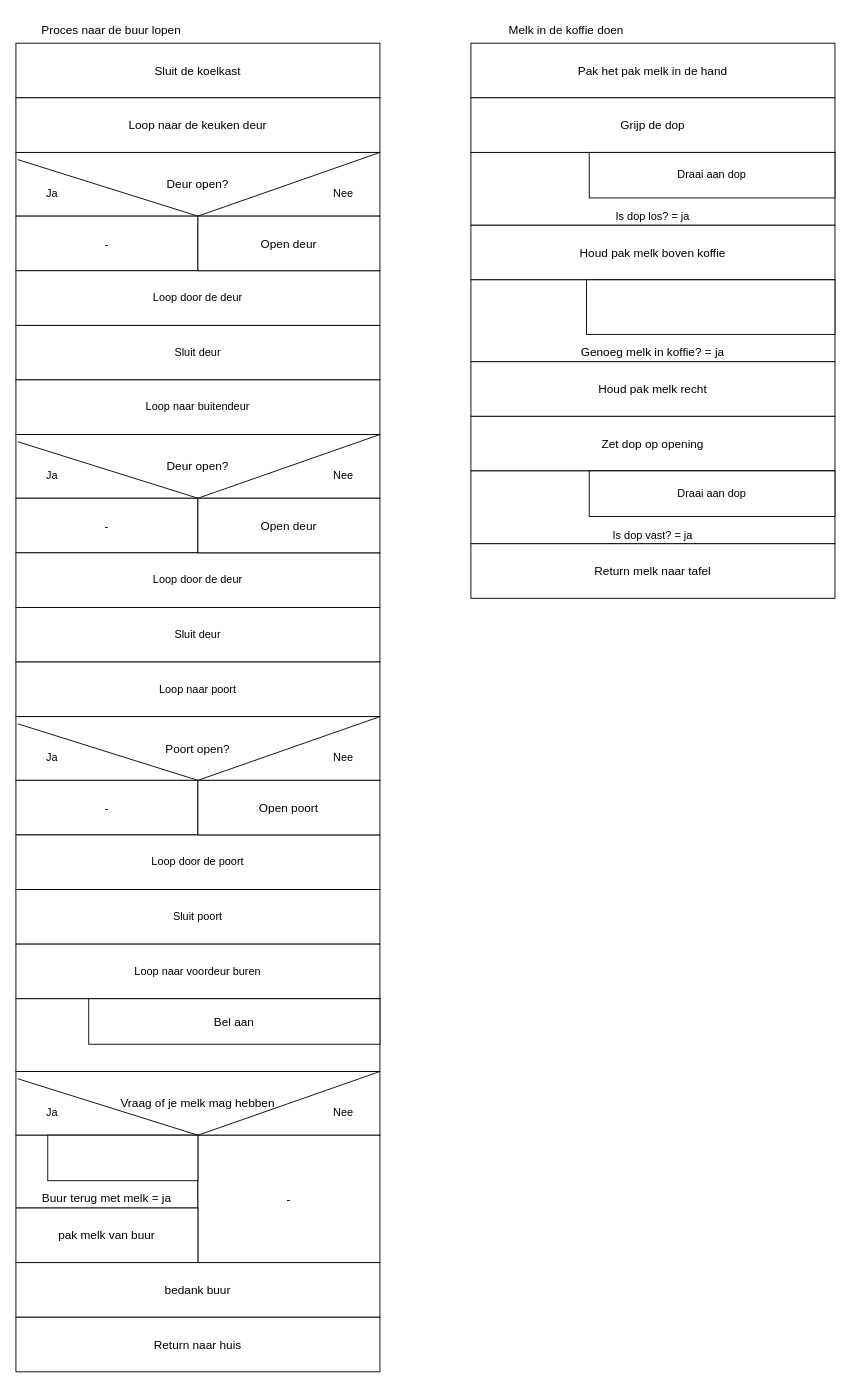
Image size: 851x1388. Some labels were removed from this diagram. Each missing label, with the box of its shape:
Buur maakt deur open = ja: (15, 998, 380, 1072)
Houd pak melk schuin: (586, 279, 835, 334)
Wacht: (47, 1134, 198, 1181)
